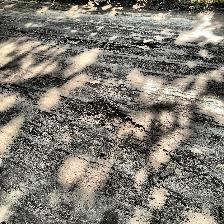pothole: (78, 100, 148, 136), (131, 41, 157, 51), (62, 38, 84, 44)
